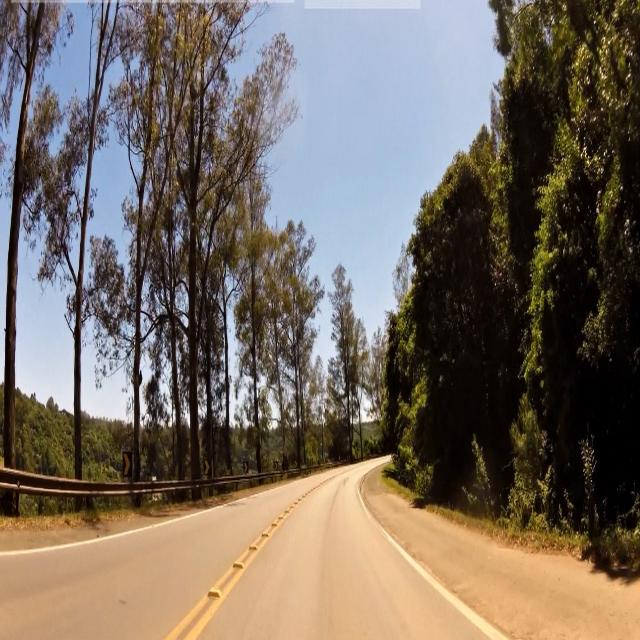Del: (121, 452, 132, 476), (204, 462, 209, 478)
